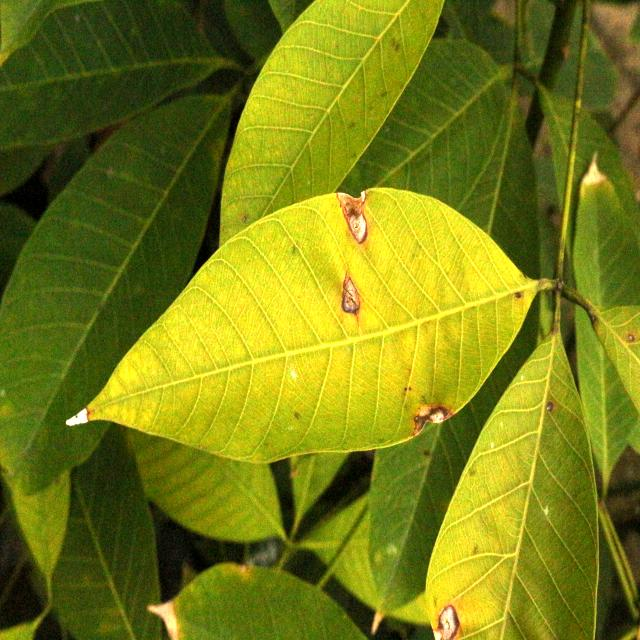Colletotrichum: (438, 604, 461, 640), (546, 403, 554, 415), (628, 334, 634, 342)
Leaf-Blight: (337, 190, 369, 243), (412, 404, 450, 436), (66, 406, 90, 426)
